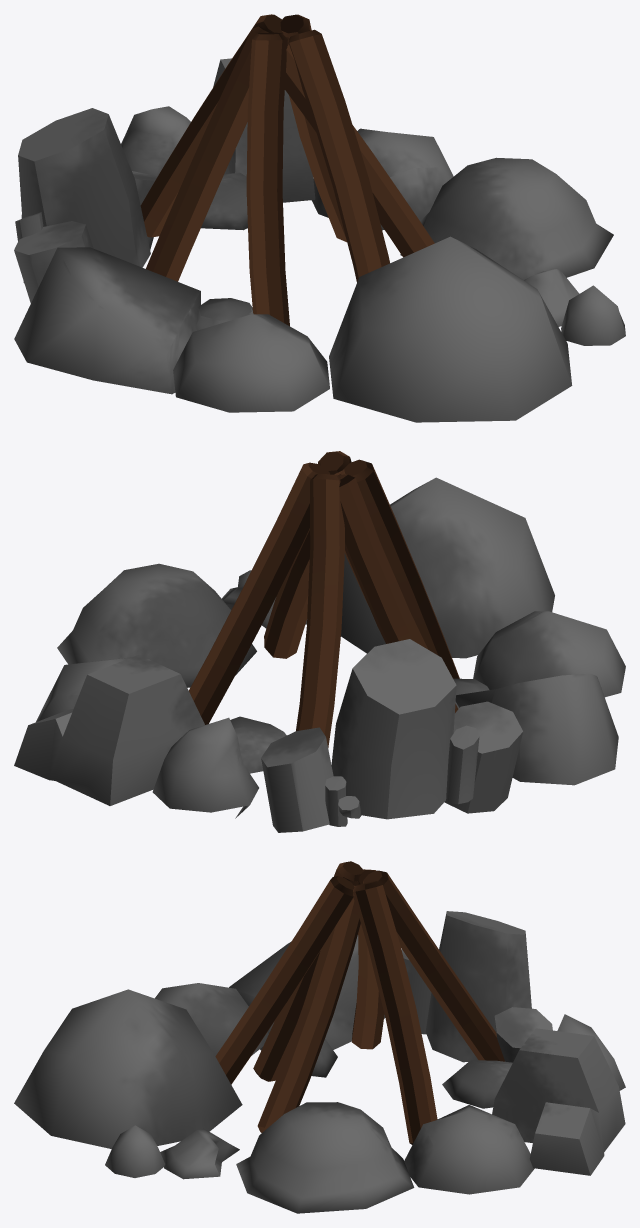
The model's file is Firepit.fbx.
3 renders of one model, top to bottom at view 1: azimuth 30°, elevation 25°; view 2: azimuth 150°, elevation 25°; view 3: azimuth 270°, elevation 25°, orthographic. The views are drawn at different scales.
Visible parts, largest first — view 1: Firepit; view 2: Firepit; view 3: Firepit.
Part boxes in pixels (x1,y1,x2,y2): Firepit: (14, 14, 625, 422); Firepit: (14, 451, 625, 832); Firepit: (14, 861, 625, 1213).
Bounding box in the file's own units: 1.76 × 0.8503 × 1.93.
1 material, 1 textured.
